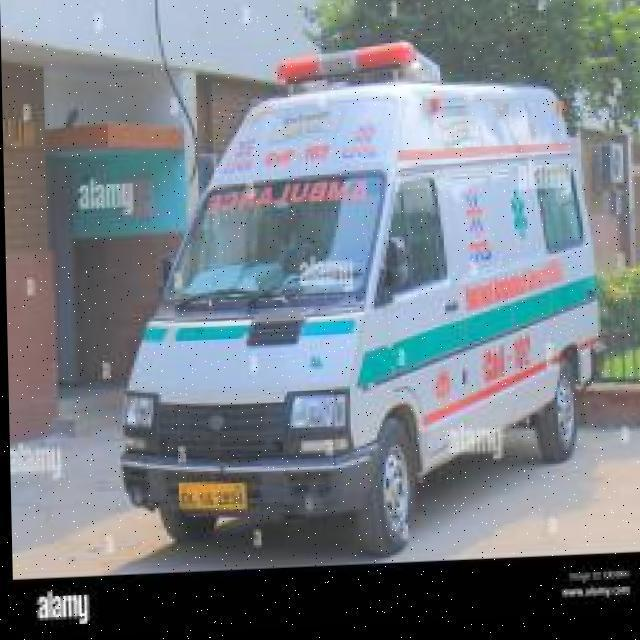Ambulance: (1, 22, 640, 577), (7, 366, 640, 579)
